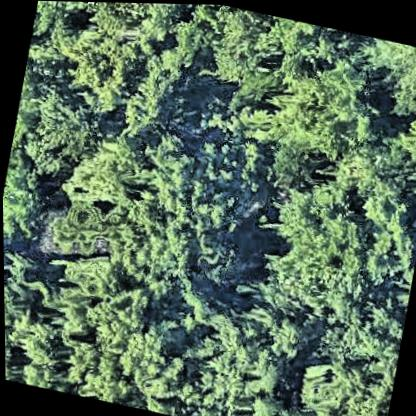tree-top: (241, 175, 392, 331), (103, 130, 221, 298), (52, 280, 176, 408), (257, 45, 378, 162), (183, 298, 295, 416), (185, 3, 294, 101), (111, 29, 200, 138), (9, 81, 99, 183), (56, 23, 142, 115), (57, 125, 137, 213), (285, 351, 390, 416), (73, 1, 180, 52), (352, 33, 416, 114), (2, 152, 53, 251), (4, 302, 69, 371), (384, 92, 416, 200), (357, 179, 416, 233), (30, 1, 86, 41)
